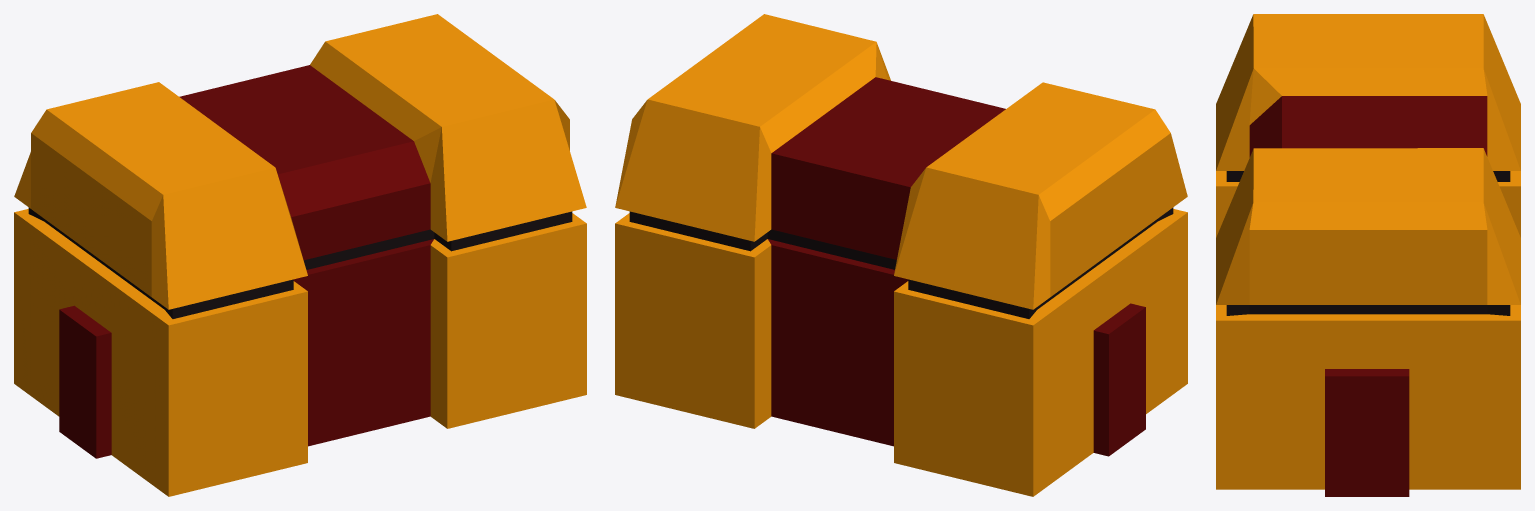
File: Chest_Gold.fbx
3 renders of one model, left to right at view 1: azimuth 30°, elevation 25°; view 2: azimuth 150°, elevation 25°; view 3: azimuth 270°, elevation 25°, orthographic.
Visible parts, largest first — view 1: Chest_Gold; view 2: Chest_Gold; view 3: Chest_Gold.
Boxes of the visible parts, bbox=[...] form: Chest_Gold: bbox=[14, 14, 586, 496]; Chest_Gold: bbox=[615, 14, 1187, 496]; Chest_Gold: bbox=[1216, 14, 1520, 496].
Bounding box in the file's own units: 215 × 130 × 128.
1 material, 1 textured.
